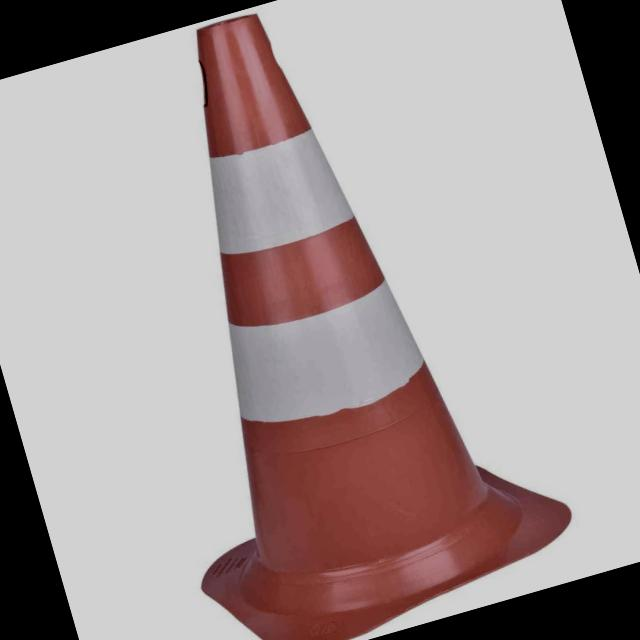cone: (56, 0, 587, 640)
